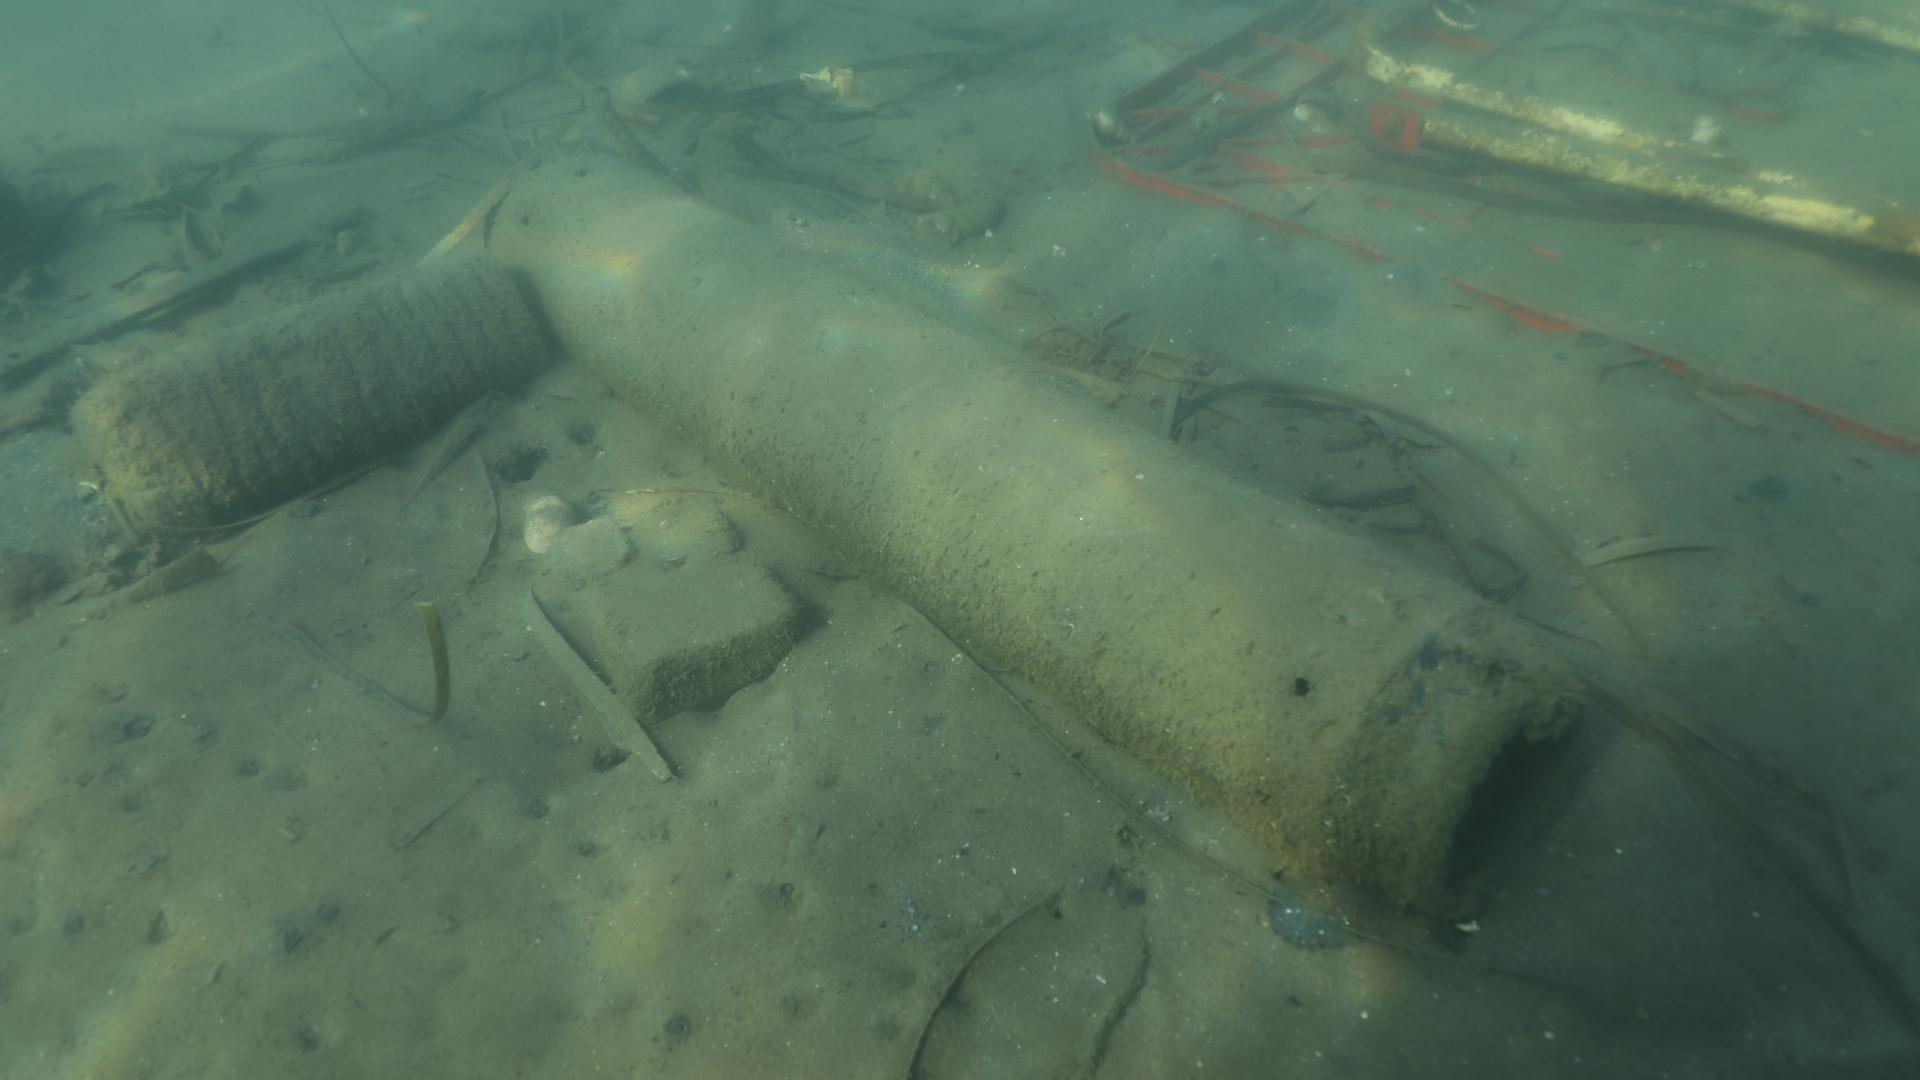eel fish trap: (471, 153, 1585, 920)
rope: (582, 79, 665, 169)
